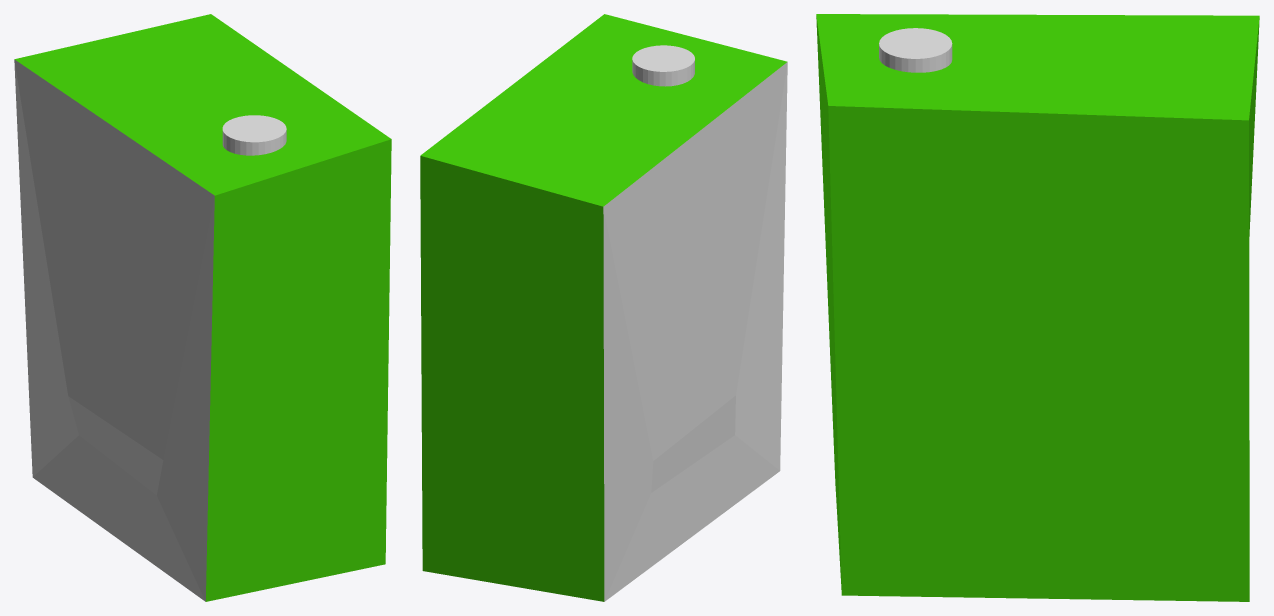
File: juice 1.fbx
The picture shows the model from 3 angles, left to right: view 1: azimuth 30°, elevation 25°; view 2: azimuth 150°, elevation 25°; view 3: azimuth 270°, elevation 25°; orthographic projection. The views are drawn at different scales.
Visible parts, largest first — view 1: Cube, Cylinder; view 2: Cube, Cylinder; view 3: Cube, Cylinder.
Part boxes in pixels (x1,y1,x2,y2): Cube: (14, 14, 391, 601); Cylinder: (222, 115, 286, 155); Cube: (420, 14, 787, 601); Cylinder: (632, 45, 694, 86); Cube: (816, 14, 1259, 601); Cylinder: (879, 28, 952, 72).
Size of the model in its own units: 97.75 by 214 by 171.
